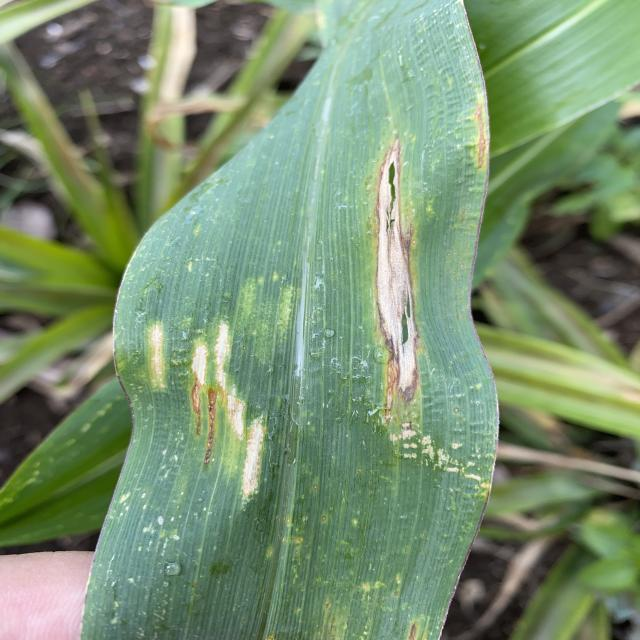Corn_Leaf_Blight: (118, 74, 488, 640)
